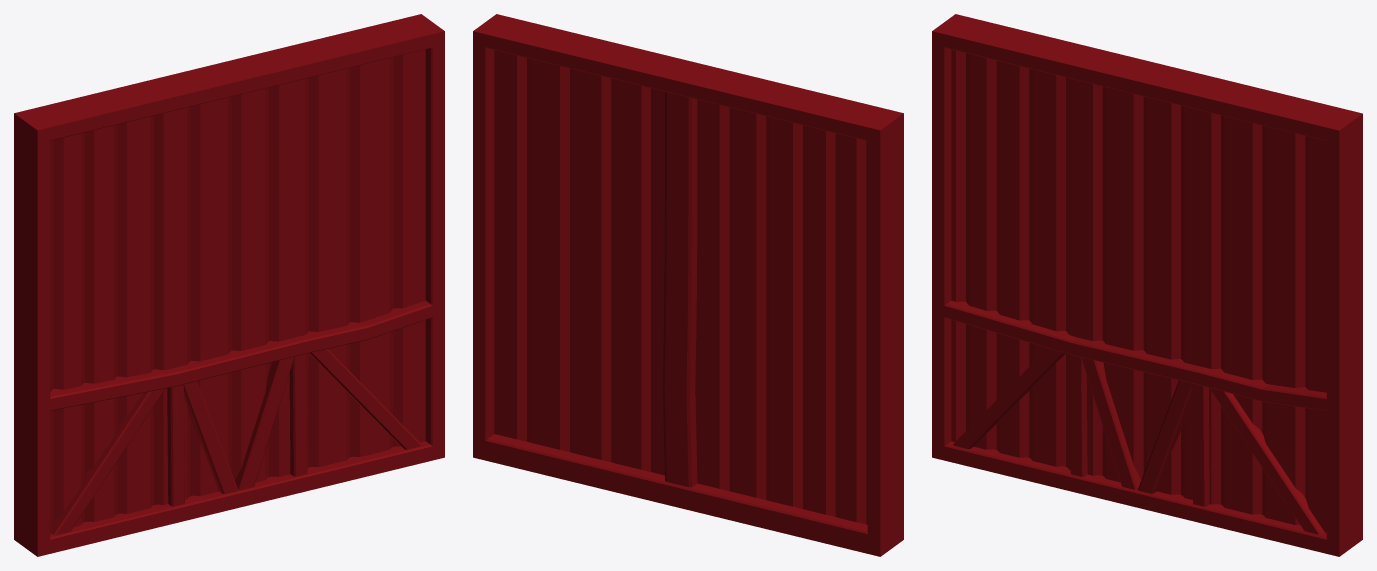
Rendered from SM_MH_01_Wood_03_Wall_01.fbx.
3 renders of one model, left to right at view 1: azimuth 30°, elevation 25°; view 2: azimuth 150°, elevation 25°; view 3: azimuth 330°, elevation 25°, orthographic.
Visible parts, largest first — view 1: SM_MH_01_Wood_03_Wall_01_LOD0; view 2: SM_MH_01_Wood_03_Wall_01_LOD0; view 3: SM_MH_01_Wood_03_Wall_01_LOD0.
Part boxes in pixels (box(x1,y1,x2,y2)): SM_MH_01_Wood_03_Wall_01_LOD0: box(14, 14, 444, 556); SM_MH_01_Wood_03_Wall_01_LOD0: box(473, 14, 903, 556); SM_MH_01_Wood_03_Wall_01_LOD0: box(932, 14, 1362, 556).
Size of what is drawn, in the model's own units: 300 by 300 by 30.
